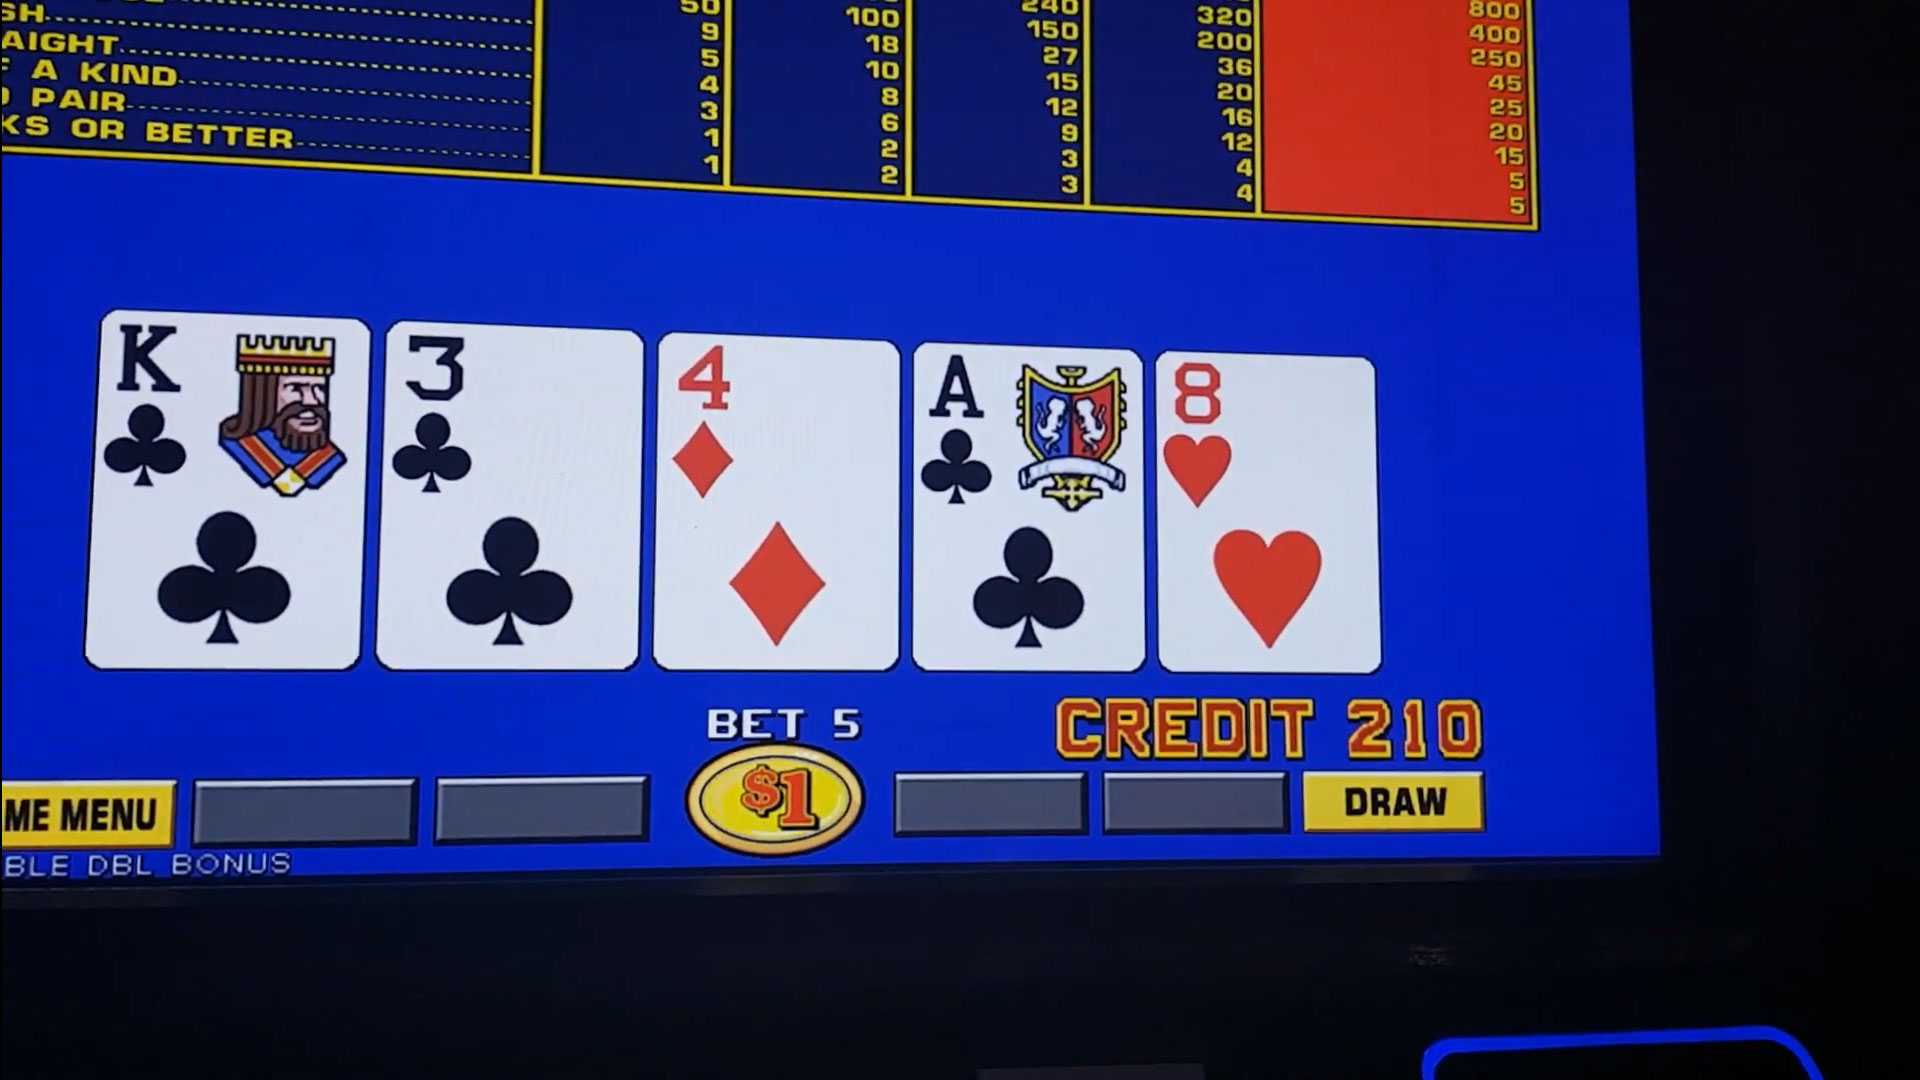C3: (392, 331, 632, 508)
CA: (915, 355, 1138, 520)
CK: (105, 320, 365, 496)
D4: (665, 343, 890, 514)
H8: (1158, 363, 1370, 516)
